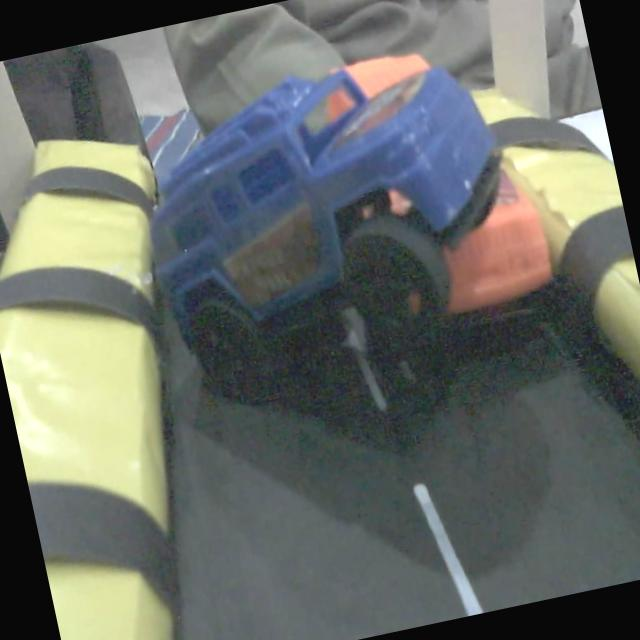Accident: (141, 42, 575, 423)
